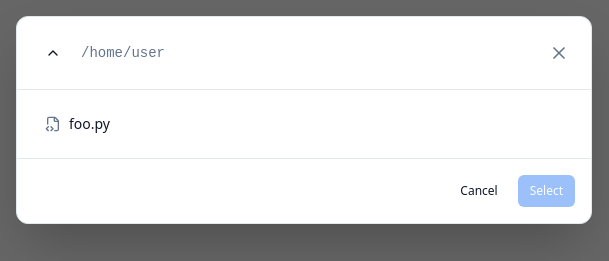
FilePickerModal — file selection › Select button enabled after clicking a .py file
Click the button "foo.py".
click(89, 124)  # box [33,106,575,142]
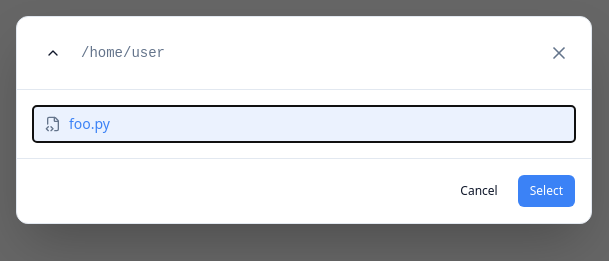
expect the button "Select" is enabled: met, box [518,175,575,207]
